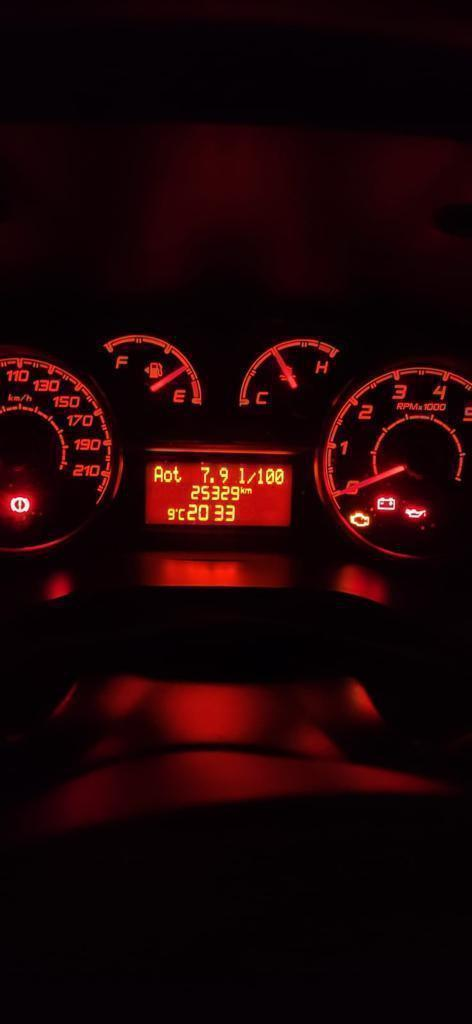,: (209, 477, 215, 483)
0: (197, 503, 209, 521), (274, 468, 284, 485), (265, 467, 274, 485)
1: (256, 467, 264, 485)
2: (186, 503, 197, 520), (220, 485, 230, 501), (190, 485, 200, 500)
3: (213, 504, 224, 521), (224, 504, 235, 521), (210, 485, 220, 500)
5: (200, 485, 210, 500)
7: (200, 466, 210, 483)
9: (218, 466, 229, 484), (230, 485, 240, 501), (167, 507, 175, 520)
X: (172, 465, 182, 483), (153, 465, 163, 482), (246, 471, 256, 485), (177, 507, 186, 521), (238, 466, 245, 484), (163, 470, 172, 483), (244, 487, 252, 495), (240, 487, 244, 495)
odometer: (142, 458, 295, 529)
